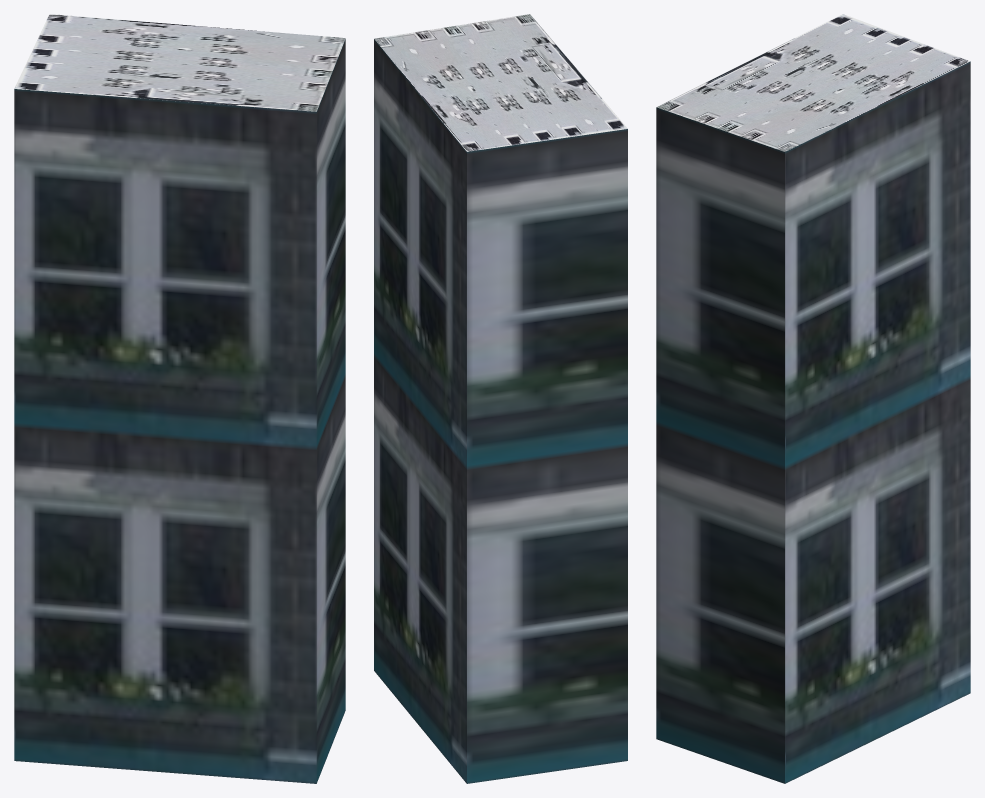
The model's file is ResTex__2746.fbx.
3 views of the same model, side by side, from view 1: azimuth 30°, elevation 25°; view 2: azimuth 150°, elevation 25°; view 3: azimuth 270°, elevation 25° (orthographic). The views are drawn at different scales.
Parts seen in each view (by area): view 1: CityEngineMaterial_11_m, CityEngineMaterial_m; view 2: CityEngineMaterial_11_m, CityEngineMaterial_m; view 3: CityEngineMaterial_11_m, CityEngineMaterial_m.
Boxes of the visible parts, x1,y1,x2,y2 form: CityEngineMaterial_11_m: (14, 39, 345, 783); CityEngineMaterial_m: (14, 14, 345, 111); CityEngineMaterial_11_m: (374, 39, 627, 783); CityEngineMaterial_m: (374, 14, 627, 151); CityEngineMaterial_11_m: (656, 61, 970, 783); CityEngineMaterial_m: (657, 14, 969, 151).
Size of the model in its own units: 2.81 by 6 by 2.7.
Materials: 2 (2 with a texture image).
